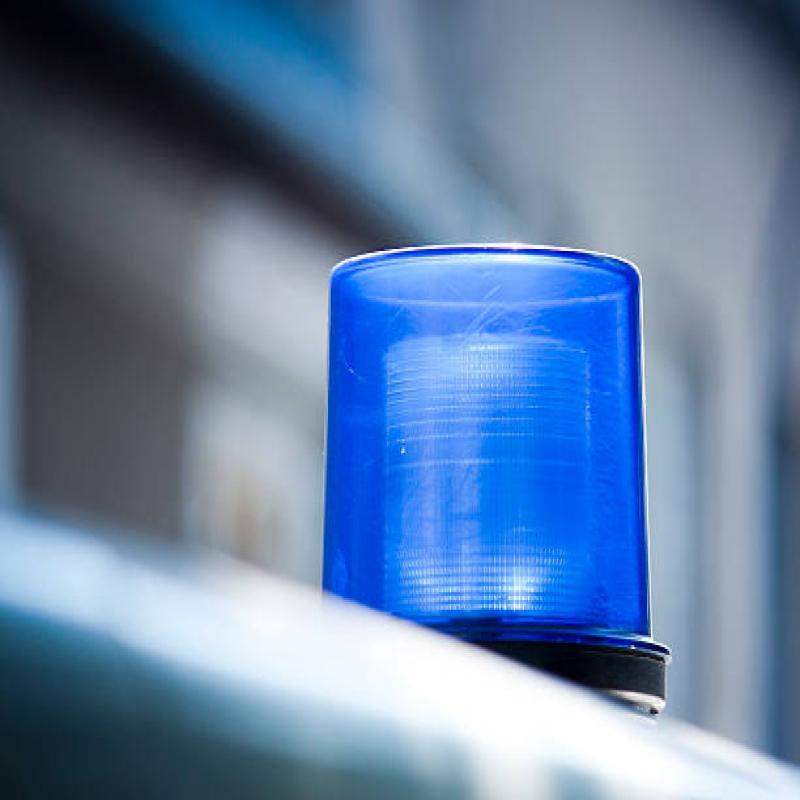AmbulanceSiren: (276, 166, 696, 741)
